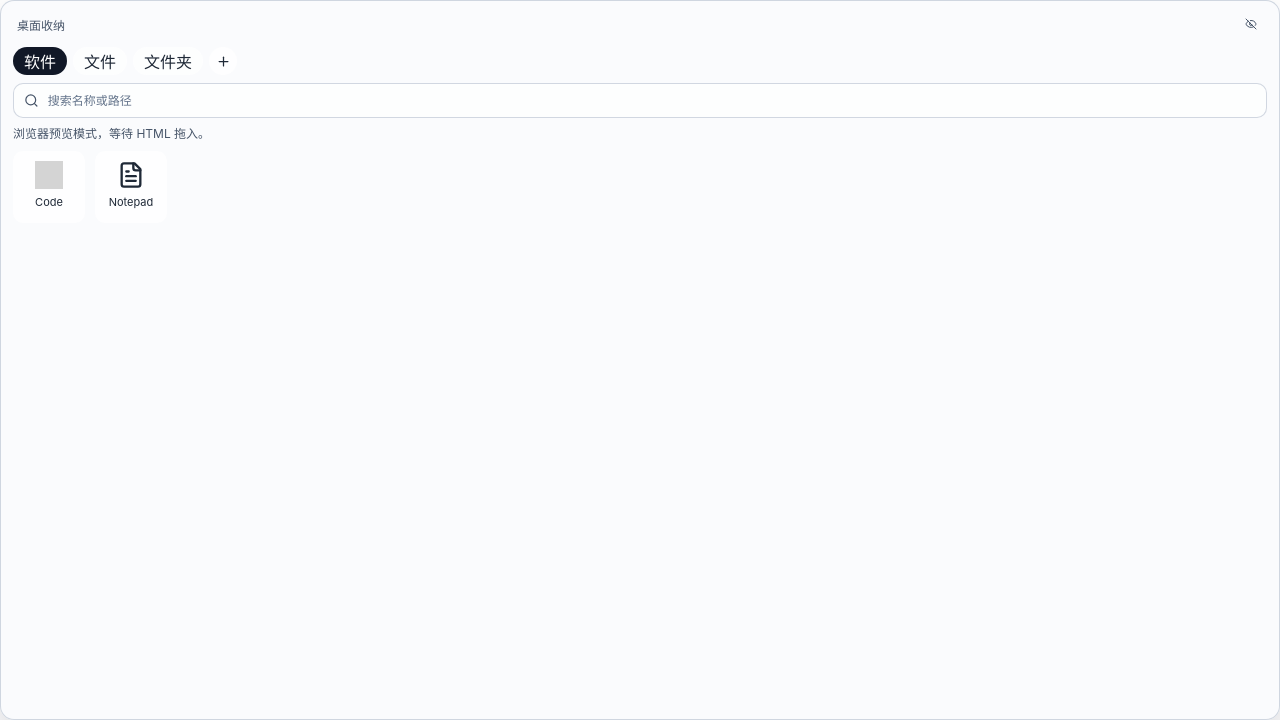
Test: App › 右键菜单中移除条目并刷新列表
Later steps or results of the test are not shown.
Right-click the button "Code" at (49, 187), box [13,151,85,223]
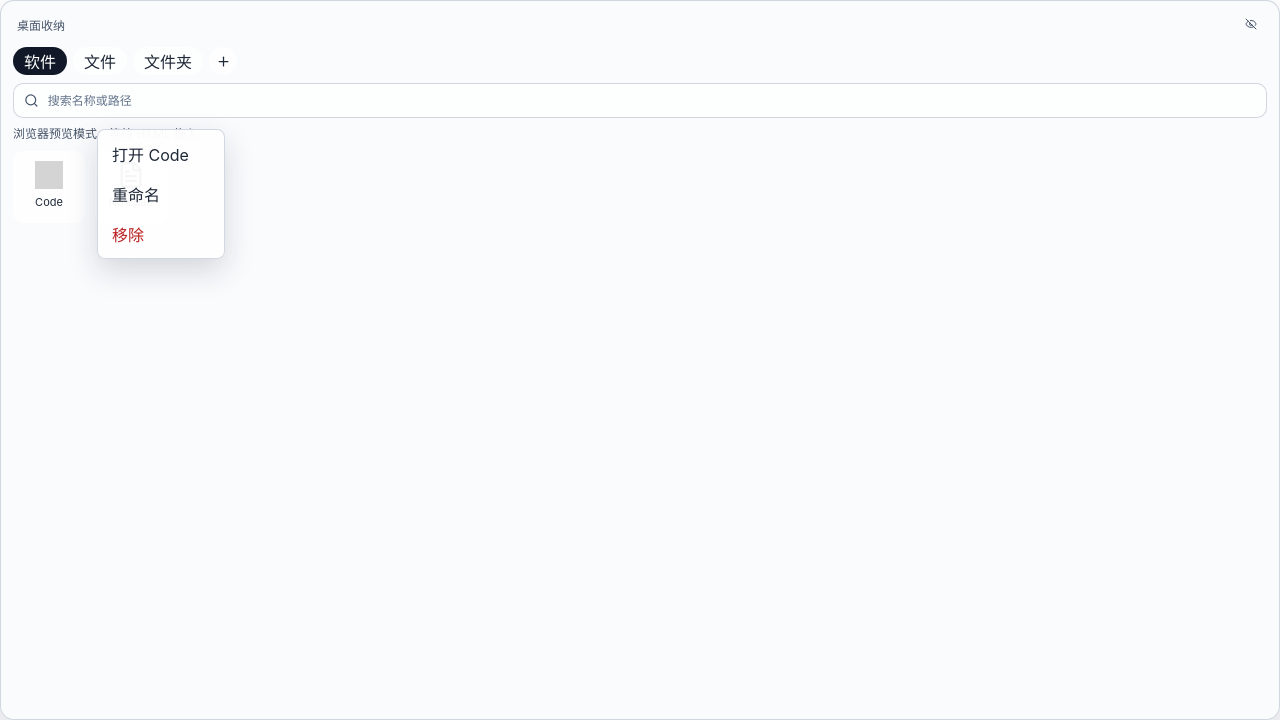
expect the menu is shown: met, box [97,129,225,259]
